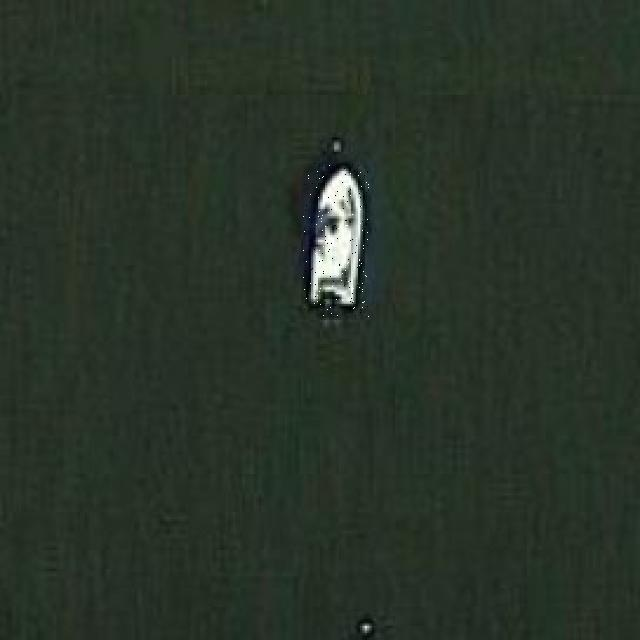boat: (304, 164, 369, 318)
